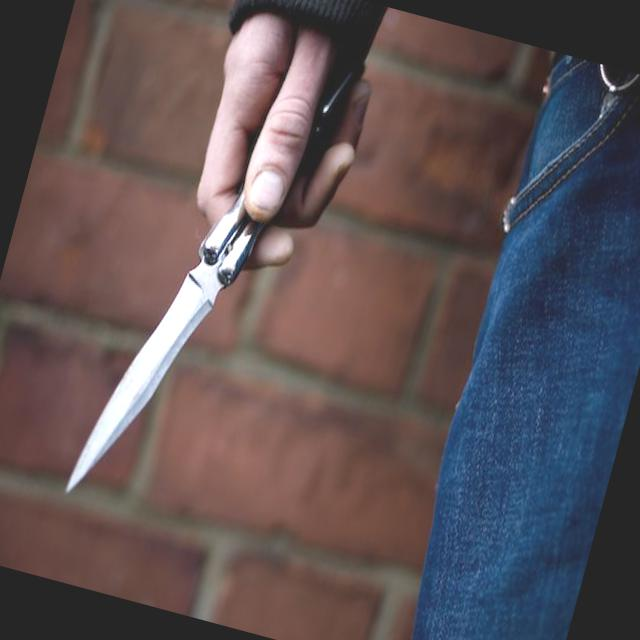knife: (50, 114, 316, 554)
